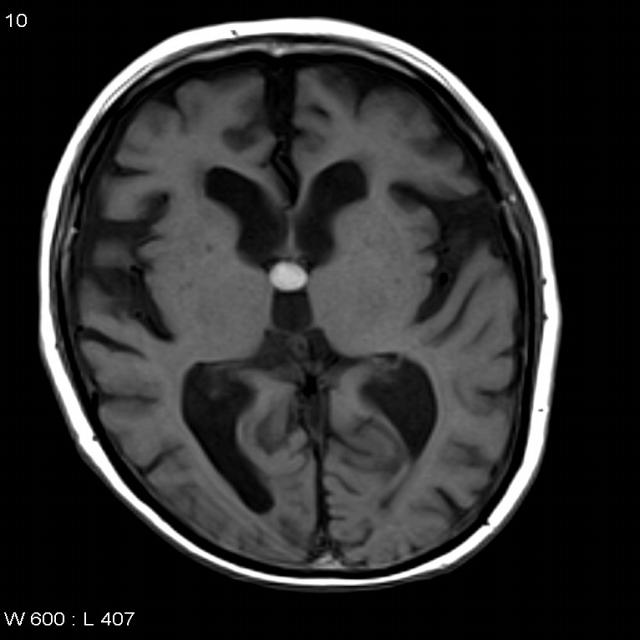Tumor: (268, 259, 306, 292)
